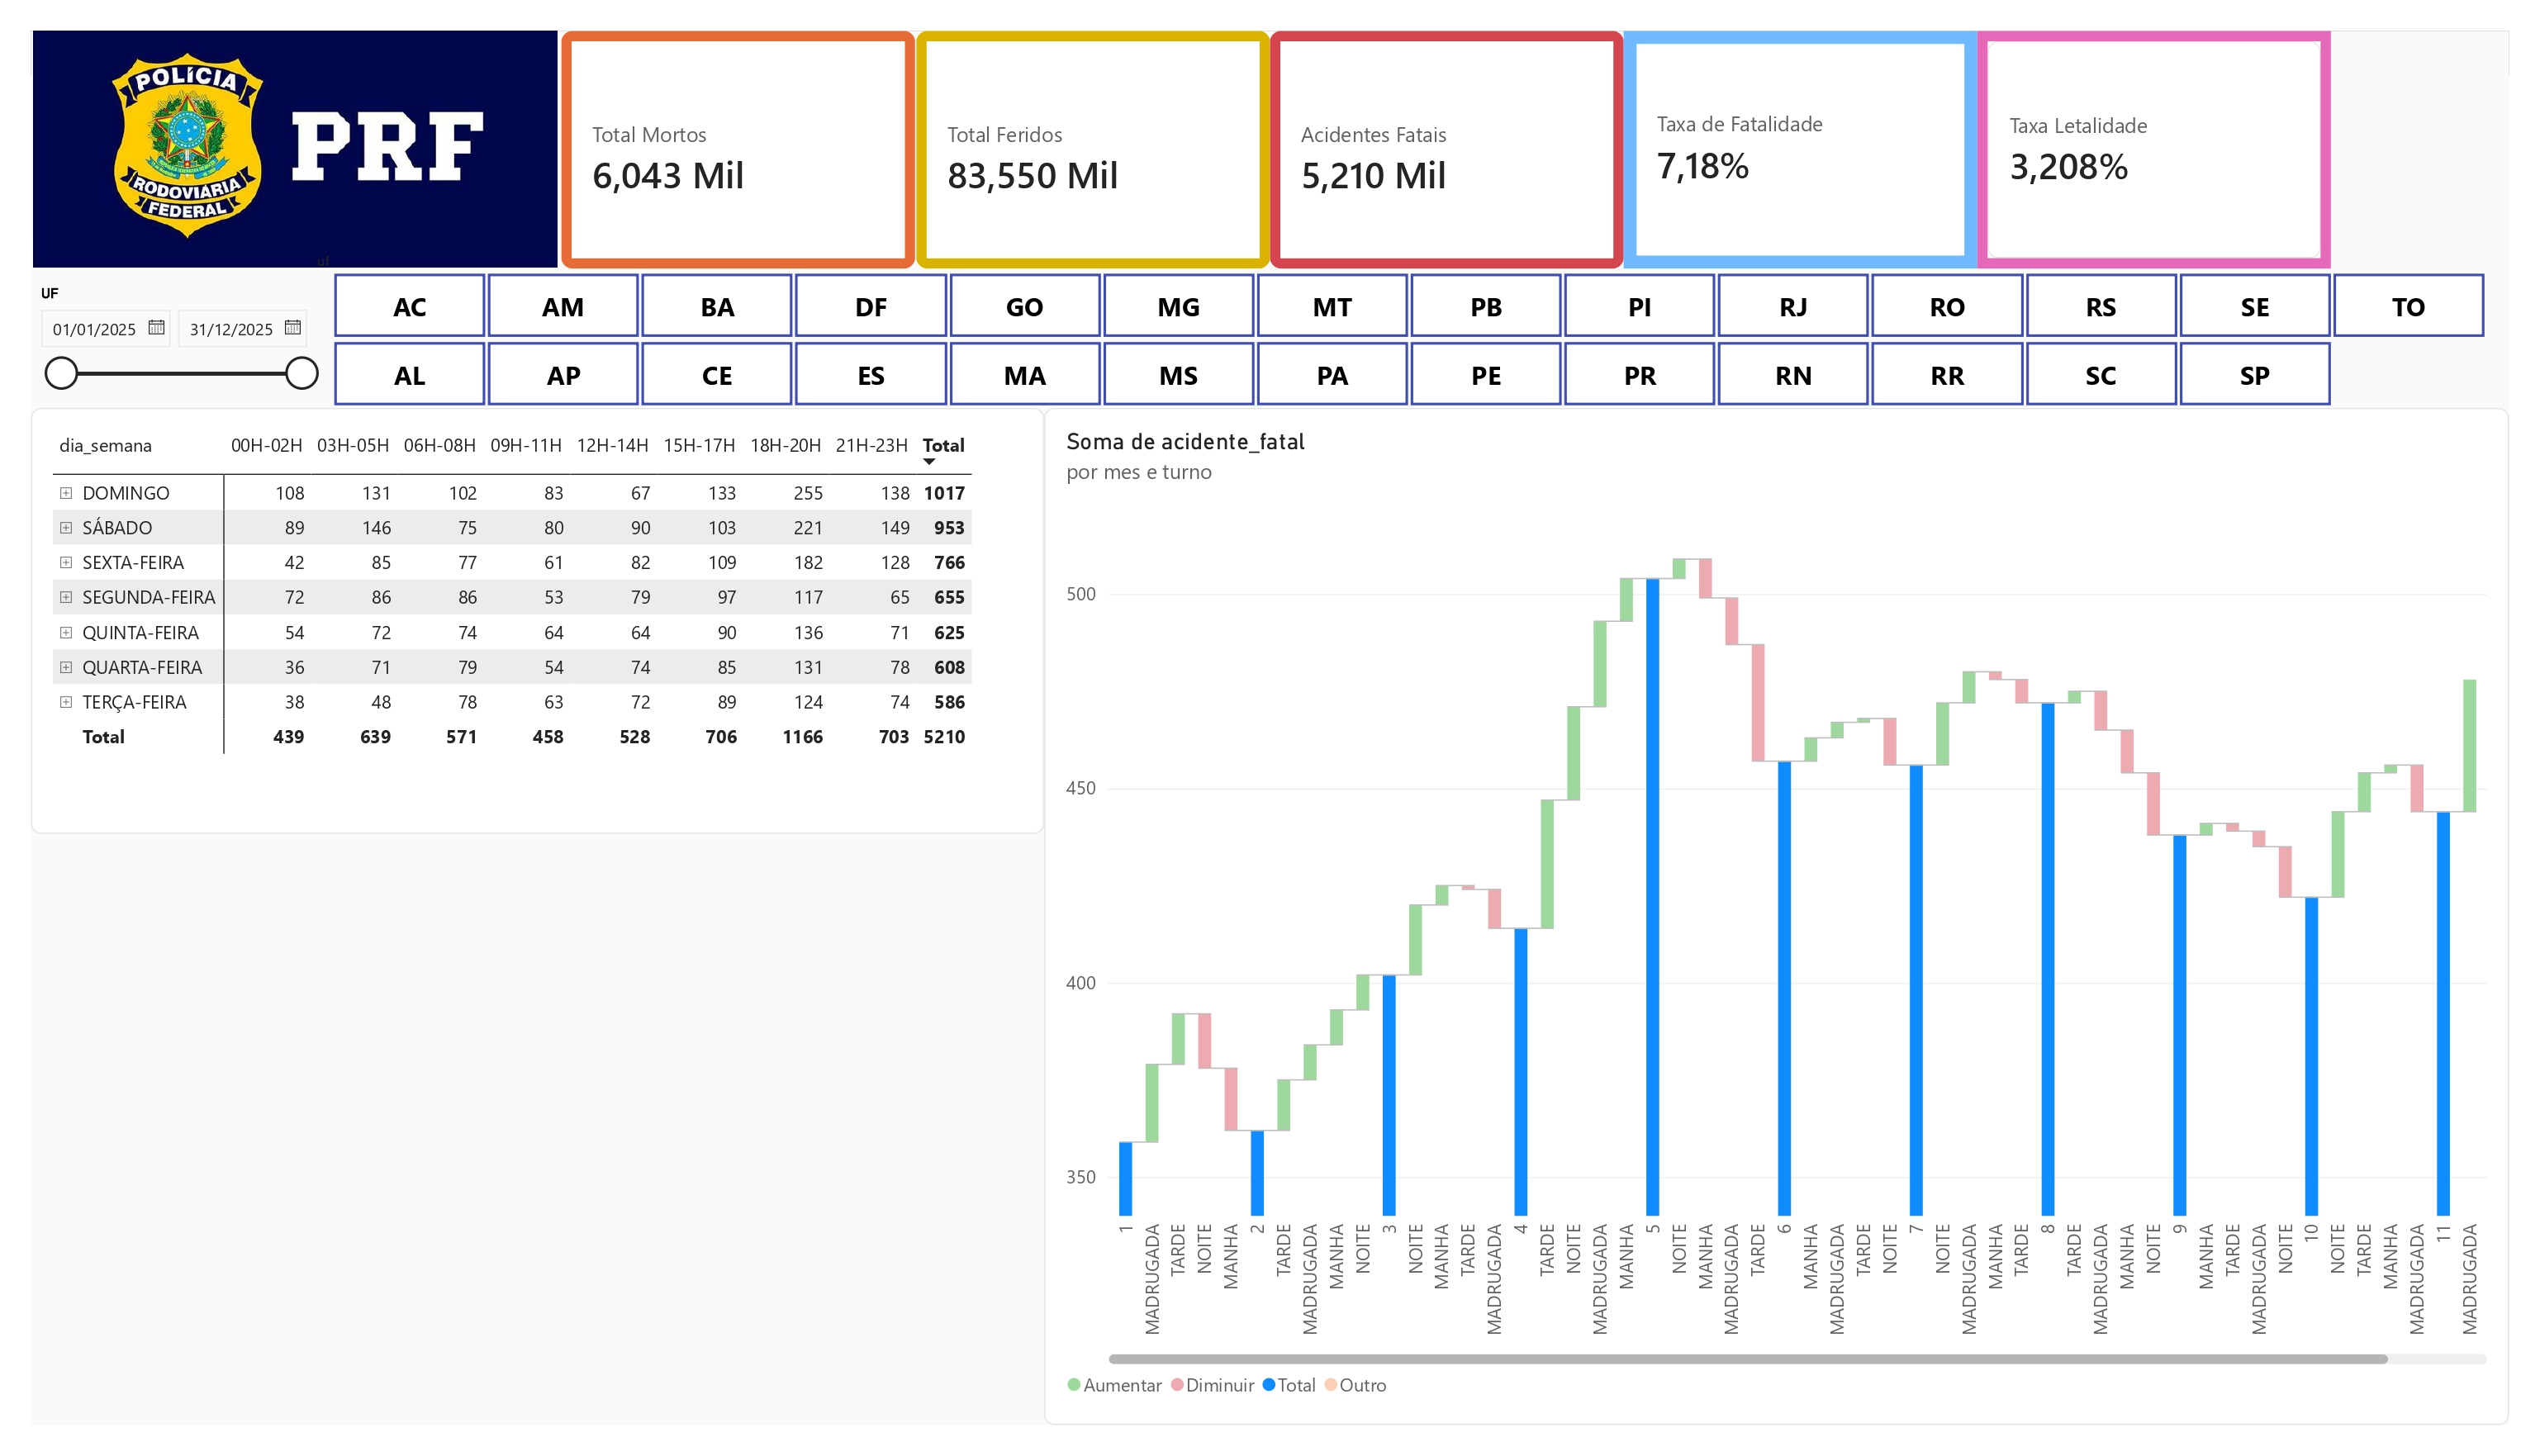

The dashboard page shown, as its layout file describes it:
{"tool":"powerbi","page":{"name":"Matriz de Calor e Gráfico de Cascata","canvas":[1920,1080],"ordinal":9},"visuals":[{"type":"image","box":[0,0,410.3,183.2],"z":0},{"type":"cardVisual","fields":{"Data":["base_analitica_prf_2025.Total_Mortos"]},"box":[411,0,274,184],"z":1000},{"type":"cardVisual","fields":{"Data":["base_analitica_prf_2025.Total_Feridos"]},"box":[686.3,0,274,184],"z":2000},{"type":"cardVisual","fields":{"Data":["base_analitica_prf_2025.Acidentes_Fatais"]},"box":[960.3,0,274,184],"z":3000},{"type":"cardVisual","fields":{"Data":["base_analitica_prf_2025.Porcentagem_Fatal"]},"box":[1234.3,0,274,184],"z":4000},{"type":"cardVisual","fields":{"Data":["base_analitica_prf_2025.Taxa Letalidade"]},"box":[1508.3,0,274,184],"z":5000},{"type":"slicer","fields":{"Values":["base_analitica_prf_2025.uf"]},"box":[214.5,172.2,1705.5,119.6],"z":6000},{"type":"slicer","fields":{"Values":["base_analitica_prf_2025.data_inversa"]},"box":[0,197,226.1,125.5],"z":7000},{"type":"pivotTable","fields":{"Columns":["base_analitica_prf_2025.faixa_horaria"],"Rows":["base_analitica_prf_2025.dia_semana","base_analitica_prf_2025.dia_semana_num"],"Values":["base_analitica_prf_2025.Acidentes Fatais"]},"box":[0,292.1,785,330.1],"z":7001},{"type":"waterfallChart","fields":{"Breakdown":["base_analitica_prf_2025.turno"],"Category":["base_analitica_prf_2025.mes"],"Y":["Sum(base_analitica_prf_2025.acidente_fatal)"]},"box":[785,292.1,1135,788.1],"z":7002}]}

Visuals, with their boxes on the page's 1920x1080 design canvas (x1, y1, x2, y2). These are canvas units, not pixel positions in the 2540x1456 screenshot, which may show the page scaled, cropped or inside an application window:
image: BBox(0, 0, 410, 183)
cardVisual - base_analitica_prf_2025.Total_Mortos: BBox(411, 0, 685, 184)
cardVisual - base_analitica_prf_2025.Total_Feridos: BBox(686, 0, 960, 184)
cardVisual - base_analitica_prf_2025.Acidentes_Fatais: BBox(960, 0, 1234, 184)
cardVisual - base_analitica_prf_2025.Porcentagem_Fatal: BBox(1234, 0, 1508, 184)
cardVisual - base_analitica_prf_2025.Taxa Letalidade: BBox(1508, 0, 1782, 184)
slicer - base_analitica_prf_2025.uf: BBox(214, 172, 1920, 292)
slicer - base_analitica_prf_2025.data_inversa: BBox(0, 197, 226, 322)
pivotTable - base_analitica_prf_2025.faixa_horaria x base_analitica_prf_2025.dia_semana: BBox(0, 292, 785, 622)
waterfallChart - base_analitica_prf_2025.turno x base_analitica_prf_2025.mes: BBox(785, 292, 1920, 1080)
